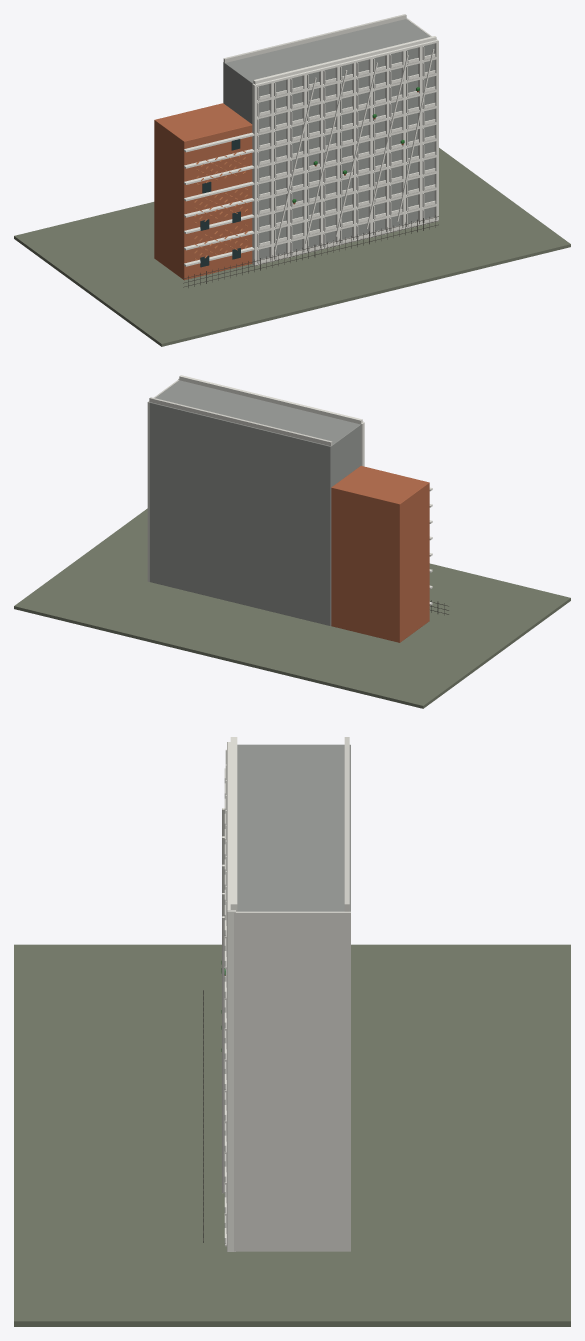
The model's file is building1.fbx.
The picture shows the model from 3 angles, top to bottom: view 1: azimuth 30°, elevation 25°; view 2: azimuth 150°, elevation 25°; view 3: azimuth 270°, elevation 25°; orthographic projection. The views are drawn at different scales.
Visible parts, largest first — view 1: Ground, Main Building, Brick Building Wing, Facade Grid, Balcony Parapets, Balcony Dividers, Balcony Floors, Brick Wing Floor Bands, Diagonal Concrete Braces, Roof Parapets, Front Fence, Brick Wing Windows; view 2: Main Building, Ground, Brick Building Wing, Roof Parapets, Right Side Wall; view 3: Ground, Right Side Wall, Main Building, Facade Grid, Roof Parapets, Diagonal Concrete Braces, Balcony Parapets.
Part boxes in pixels (box(x1,y1,x2,y2)): Ground: box(14, 148, 570, 346); Main Building: box(223, 19, 434, 260); Brick Building Wing: box(154, 103, 252, 280); Facade Grid: box(252, 39, 438, 265); Balcony Parapets: box(259, 54, 435, 263); Balcony Dividers: box(257, 46, 424, 263); Balcony Floors: box(257, 57, 435, 264); Brick Wing Floor Bands: box(184, 132, 254, 266); Diagonal Concrete Braces: box(274, 49, 434, 251); Roof Parapets: box(223, 14, 436, 84); Front Fence: box(183, 215, 438, 287); Brick Wing Windows: box(200, 139, 240, 267); Main Building: box(149, 380, 361, 625); Ground: box(14, 508, 570, 708); Brick Building Wing: box(331, 466, 429, 642); Roof Parapets: box(149, 375, 362, 446); Right Side Wall: box(147, 379, 179, 581); Ground: box(14, 944, 570, 1326); Right Side Wall: box(234, 911, 350, 1251); Main Building: box(237, 744, 350, 911); Facade Grid: box(227, 742, 235, 1251); Roof Parapets: box(230, 737, 349, 911); Diagonal Concrete Braces: box(222, 808, 224, 1193); Balcony Parapets: box(224, 768, 226, 1243).
Size of the model in its own units: 8000 by 3487 by 5000.
